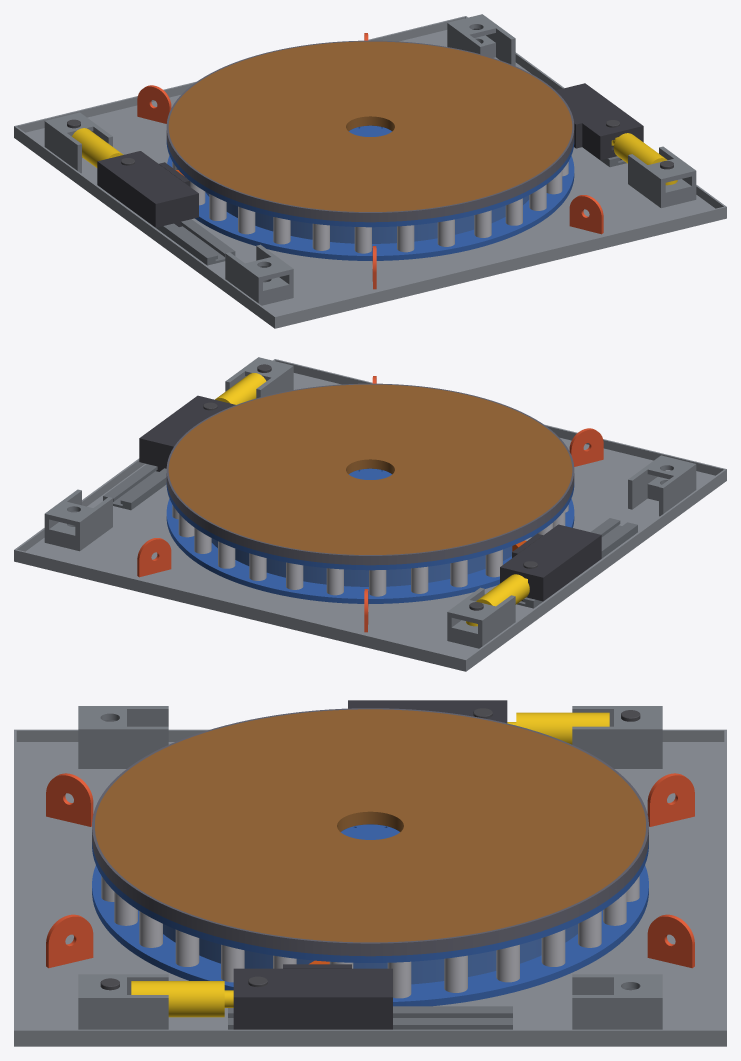
3 views of the same model, one above another, from view 1: azimuth 30°, elevation 25°; view 2: azimuth 150°, elevation 25°; view 3: azimuth 270°, elevation 25° (orthographic). The views are drawn at different scales.
Visible parts, largest first — view 1: TT300C-MAD-001-C Tablones de madera dura, TT300C-BAS-001-C Plancha base, TT300C-ACC-003-C PatÃn guiado, TT300C-BAS-003-C Marco perimetral largo, TT300C-BAS-005-C Mejilla de mÃ©nsula, TT300C-MES-004-C Anillo inferior de pasadores, TT300C-MAD-002-C Anillo de acero de contenciÃ³n, TT300C-MES-012-C Pasador de empuje, TT300C-BAS-004-C Marco perimetral corto, TT300C-MES-007-C Alma anular R840, TT300C-IZA-001-C Oreja de izaje, TT300C-MES-002-C Anillo superior de pasadores (+4 smaller); view 2: TT300C-MAD-001-C Tablones de madera dura, TT300C-BAS-001-C Plancha base, TT300C-ACC-003-C PatÃn guiado, TT300C-BAS-003-C Marco perimetral largo, TT300C-BAS-005-C Mejilla de mÃ©nsula, TT300C-MAD-002-C Anillo de acero de contenciÃ³n, TT300C-MES-004-C Anillo inferior de pasadores, TT300C-MES-012-C Pasador de empuje, TT300C-BAS-004-C Marco perimetral corto, TT300C-ACC-001-C Bancada de guÃa con ranura T, TT300C-MES-007-C Alma anular R840, TT300C-IZA-001-C Oreja de izaje (+4 smaller); view 3: TT300C-MAD-001-C Tablones de madera dura, TT300C-BAS-001-C Plancha base, TT300C-BAS-005-C Mejilla de mÃ©nsula, TT300C-ACC-003-C PatÃn guiado, TT300C-BAS-004-C Marco perimetral corto, TT300C-MAD-002-C Anillo de acero de contenciÃ³n, TT300C-MES-004-C Anillo inferior de pasadores, TT300C-IZA-001-C Oreja de izaje, TT300C-MES-012-C Pasador de empuje, TT300C-ACC-002-C Cilindro hidrÃ¡ulico doble efecto, TT300C-MES-002-C Anillo superior de pasadores, TT300C-MES-007-C Alma anular R840 (+4 smaller).
Boxes of the visible parts, x1,y1,x2,y2 form: TT300C-MAD-001-C Tablones de madera dura: (168, 41, 572, 211); TT300C-BAS-001-C Plancha base: (14, 30, 726, 328); TT300C-ACC-003-C PatÃn guiado: (97, 83, 643, 227); TT300C-BAS-003-C Marco perimetral largo: (14, 16, 726, 325); TT300C-BAS-005-C Mejilla de mÃ©nsula: (44, 14, 696, 305); TT300C-MES-004-C Anillo inferior de pasadores: (167, 156, 574, 260); TT300C-MAD-002-C Anillo de acero de contenciÃ³n: (166, 40, 574, 222); TT300C-MES-012-C Pasador de empuje: (172, 162, 568, 253); TT300C-BAS-004-C Marco perimetral corto: (15, 16, 725, 324); TT300C-MES-007-C Alma anular R840: (205, 192, 529, 243); TT300C-IZA-001-C Oreja de izaje: (137, 33, 603, 289); TT300C-MES-002-C Anillo superior de pasadores: (166, 140, 574, 227); TT300C-MAD-001-C Tablones de madera dura: (168, 384, 572, 554); TT300C-BAS-001-C Plancha base: (14, 373, 726, 671); TT300C-ACC-003-C PatÃn guiado: (139, 395, 601, 601); TT300C-BAS-003-C Marco perimetral largo: (14, 359, 726, 668); TT300C-BAS-005-C Mejilla de mÃ©nsula: (44, 357, 696, 648); TT300C-MAD-002-C Anillo de acero de contenciÃ³n: (166, 383, 574, 565); TT300C-MES-004-C Anillo inferior de pasadores: (166, 499, 574, 603); TT300C-MES-012-C Pasador de empuje: (172, 505, 568, 596); TT300C-BAS-004-C Marco perimetral corto: (15, 359, 725, 667); TT300C-ACC-001-C Bancada de guÃa con ranura T: (103, 464, 637, 608); TT300C-MES-007-C Alma anular R840: (211, 535, 534, 586); TT300C-IZA-001-C Oreja de izaje: (137, 376, 603, 632); TT300C-MAD-001-C Tablones de madera dura: (95, 709, 645, 942); TT300C-BAS-001-C Plancha base: (14, 742, 726, 1046); TT300C-BAS-005-C Mejilla de mÃ©nsula: (78, 706, 662, 1029); TT300C-ACC-003-C PatÃn guiado: (233, 700, 507, 1029); TT300C-BAS-004-C Marco perimetral corto: (16, 729, 724, 1042); TT300C-MAD-002-C Anillo de acero de contenciÃ³n: (92, 708, 648, 956); TT300C-MES-004-C Anillo inferior de pasadores: (92, 865, 648, 1006); TT300C-IZA-001-C Oreja de izaje: (46, 773, 694, 968); TT300C-MES-012-C Pasador de empuje: (101, 876, 639, 998); TT300C-ACC-002-C Cilindro hidrÃ¡ulico doble efecto: (131, 712, 609, 1017); TT300C-MES-002-C Anillo superior de pasadores: (92, 842, 648, 962); TT300C-MES-007-C Alma anular R840: (163, 924, 577, 984).
Bounding box in the file's own units: 2560 × 278 × 2560.
